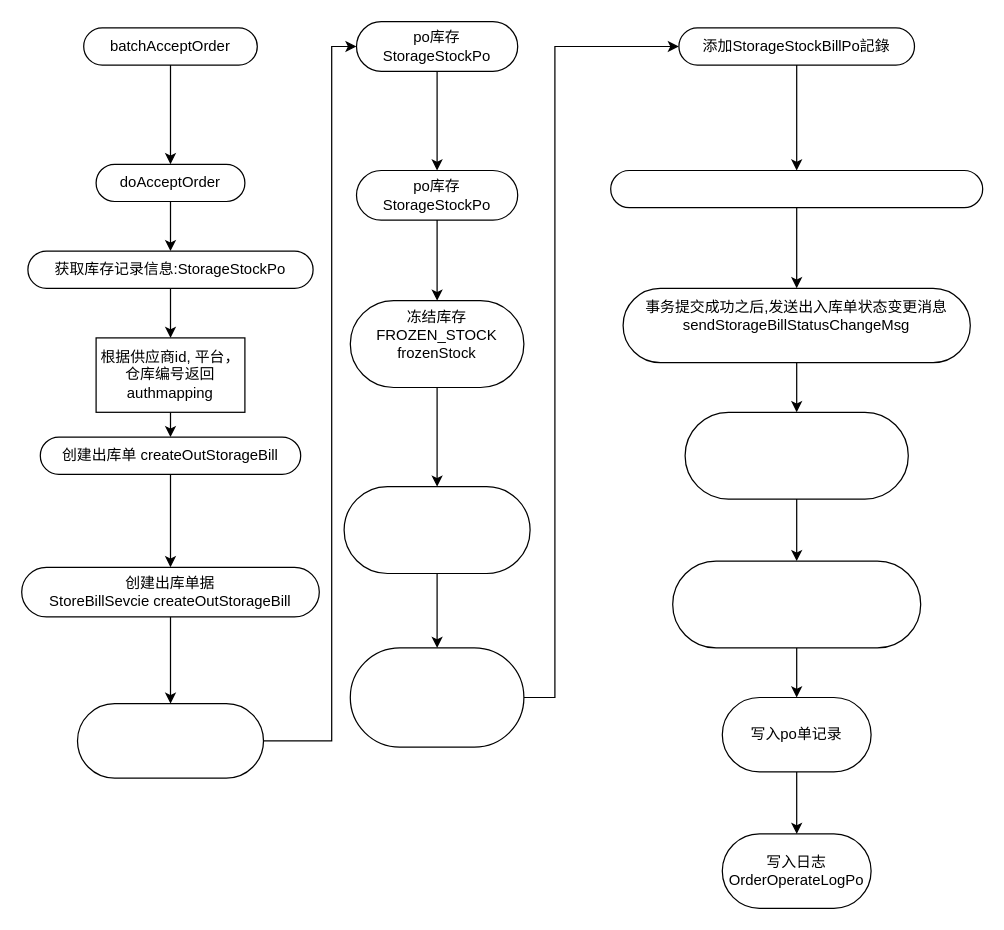
This 1004x930 diagram has some shape labels left out. Each missing label, with the centre of its shape:
acceptOrder 订单状态改成：确认发货 接单时间 ：当前: (x=796, y=455)
冻结PO库存 frozenPOStock 更新 StorageStockPo 冻结库存,实际库存: (x=436, y=697)
更新 StorageStockSumPo 冻结库存, 实际库存: (x=436, y=529)
添加出库单 ScmStorageBill, ScmStorageDetailPo: (x=796, y=188)
获取聚集库存 StorageStockSumPo: (x=170, y=740)
选择的货主 如果po单有货主，用po单货主 否刚用authmapping货主: (x=796, y=604)
